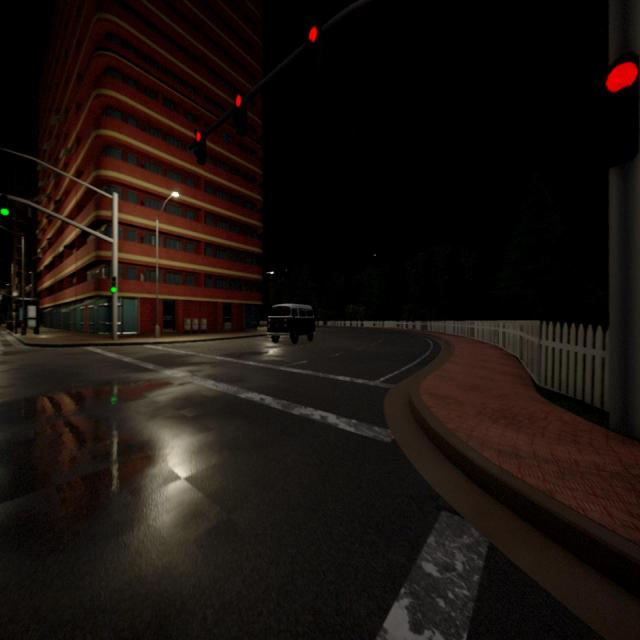Vehicle: (267, 304, 315, 344)
traffic_light: (603, 60, 640, 158), (236, 93, 250, 132), (193, 128, 207, 165), (308, 27, 320, 68), (0, 194, 10, 216), (110, 276, 118, 294)
